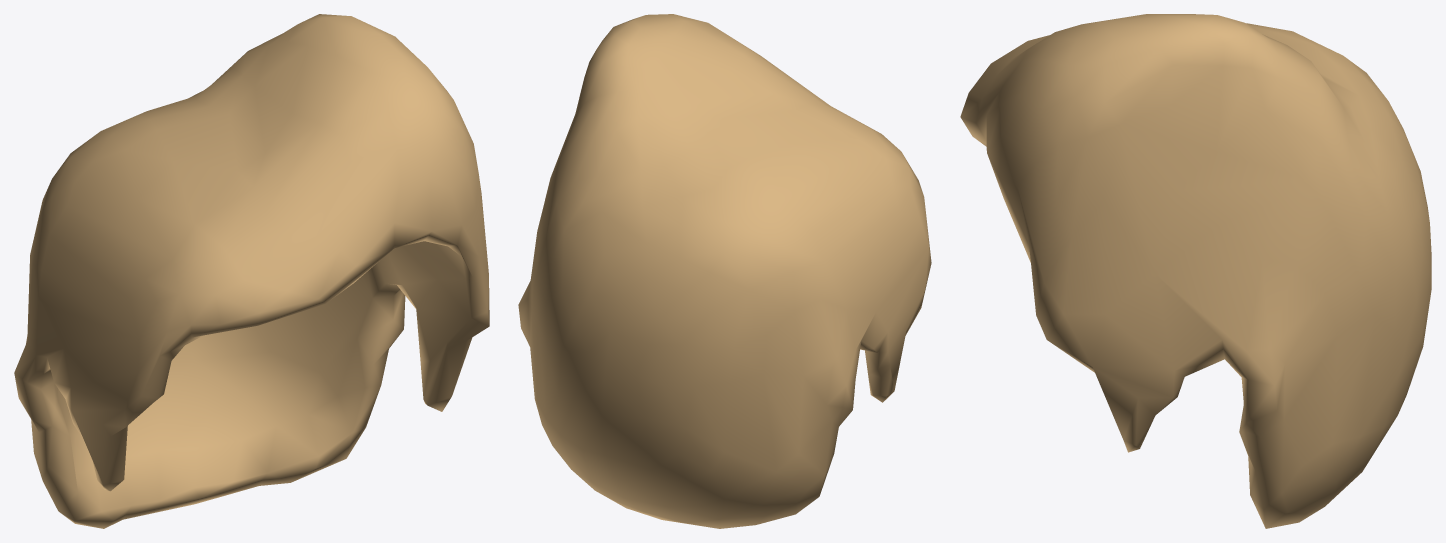
File: LuisHair.fbx
3 renders of one model, left to right at view 1: azimuth 30°, elevation 25°; view 2: azimuth 150°, elevation 25°; view 3: azimuth 270°, elevation 25°, orthographic. The views are drawn at different scales.
Visible parts, largest first — view 1: LuisHair; view 2: LuisHair; view 3: LuisHair.
Boxes of the visible parts, box(x1,y1,x2,y2) form: LuisHair: box(14, 14, 489, 528); LuisHair: box(518, 14, 931, 528); LuisHair: box(960, 14, 1431, 528).
Size of the model in its own units: 150 by 188 by 154.
